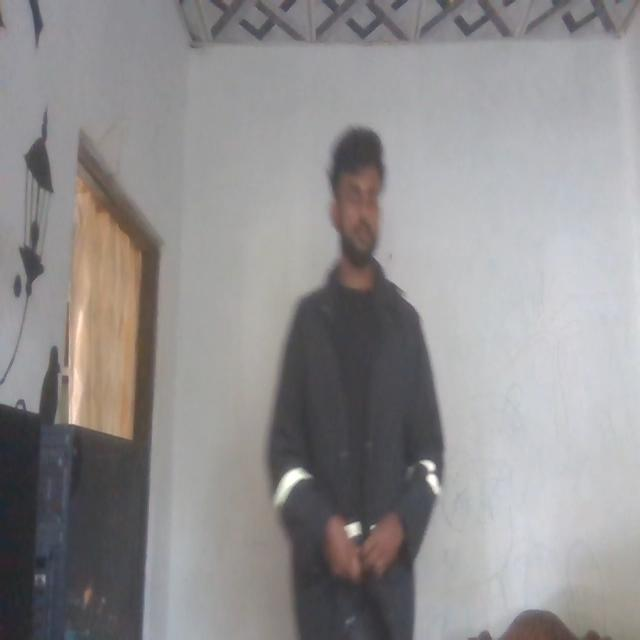Jacket_Wearer: (274, 258, 437, 640)
Person: (267, 122, 437, 640)
